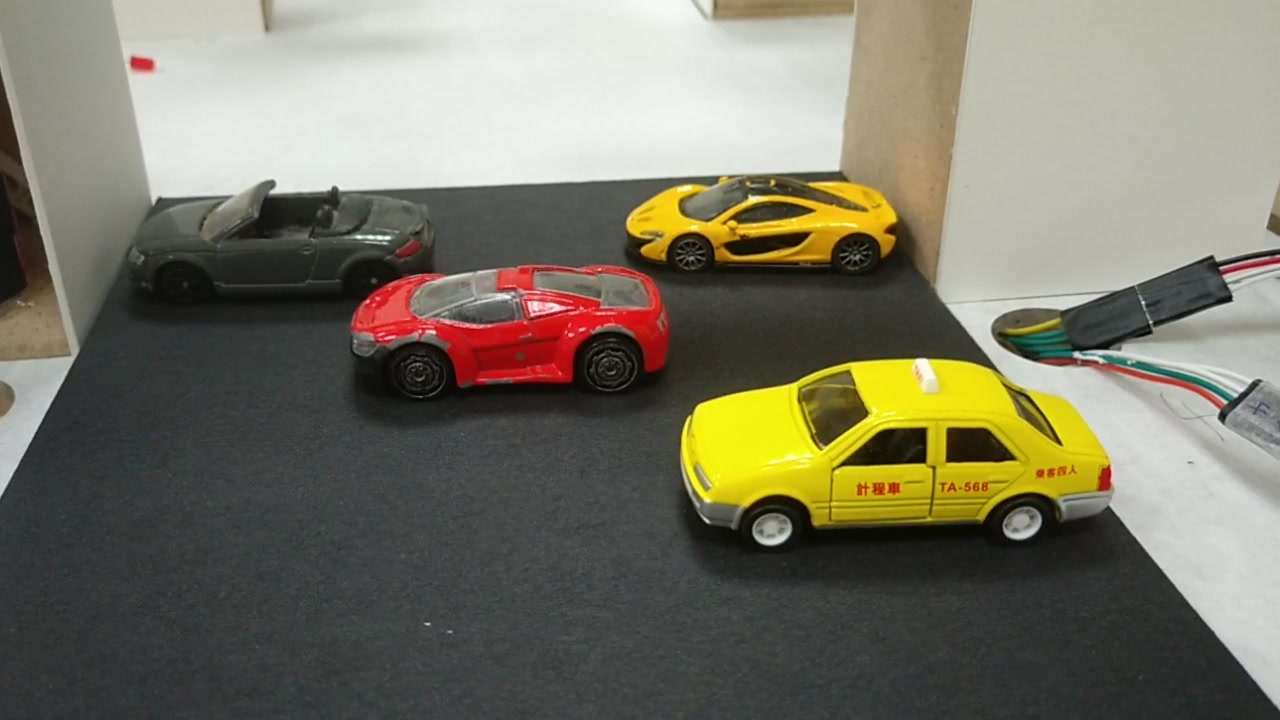car: (677, 364, 1115, 536), (349, 266, 674, 394), (131, 195, 431, 285), (621, 180, 901, 268)
